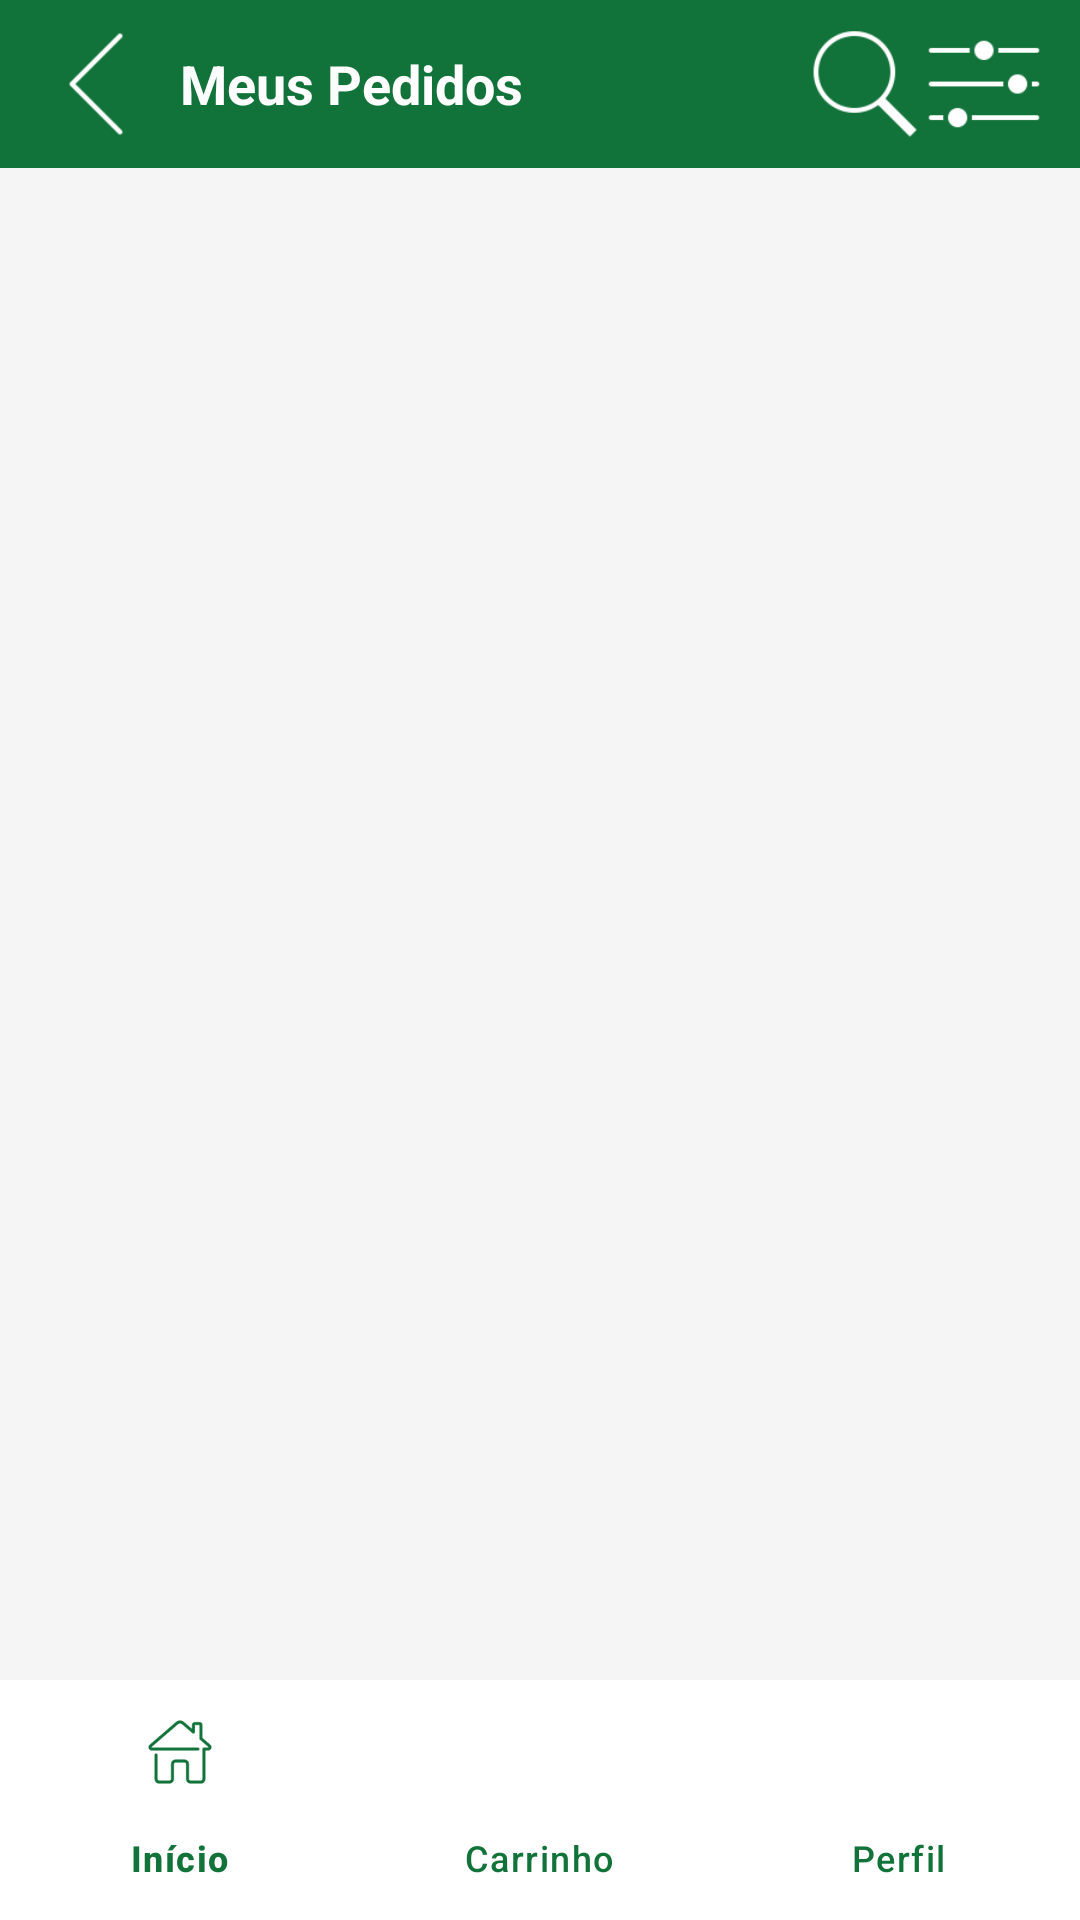

Named icons in this screenshot (1080px×1920px) and their centers, point (x, y):
filtro: point (984, 84)
lupa: point (865, 84)
setaesquerda: point (96, 84)
